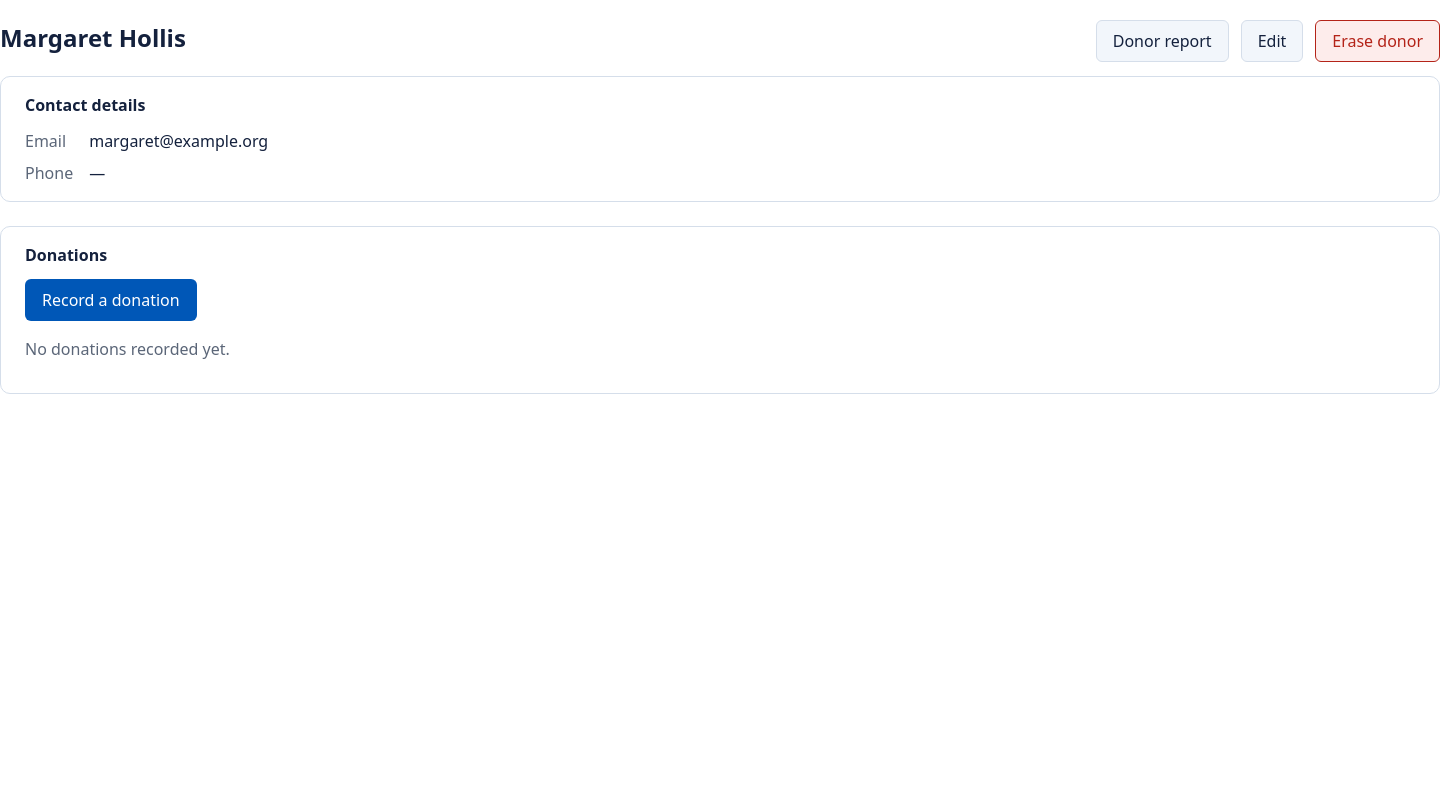
erases the donor after confirmation and returns to the list
Click the button "Erase donor" at (1378, 41), box [1315, 20, 1439, 62]
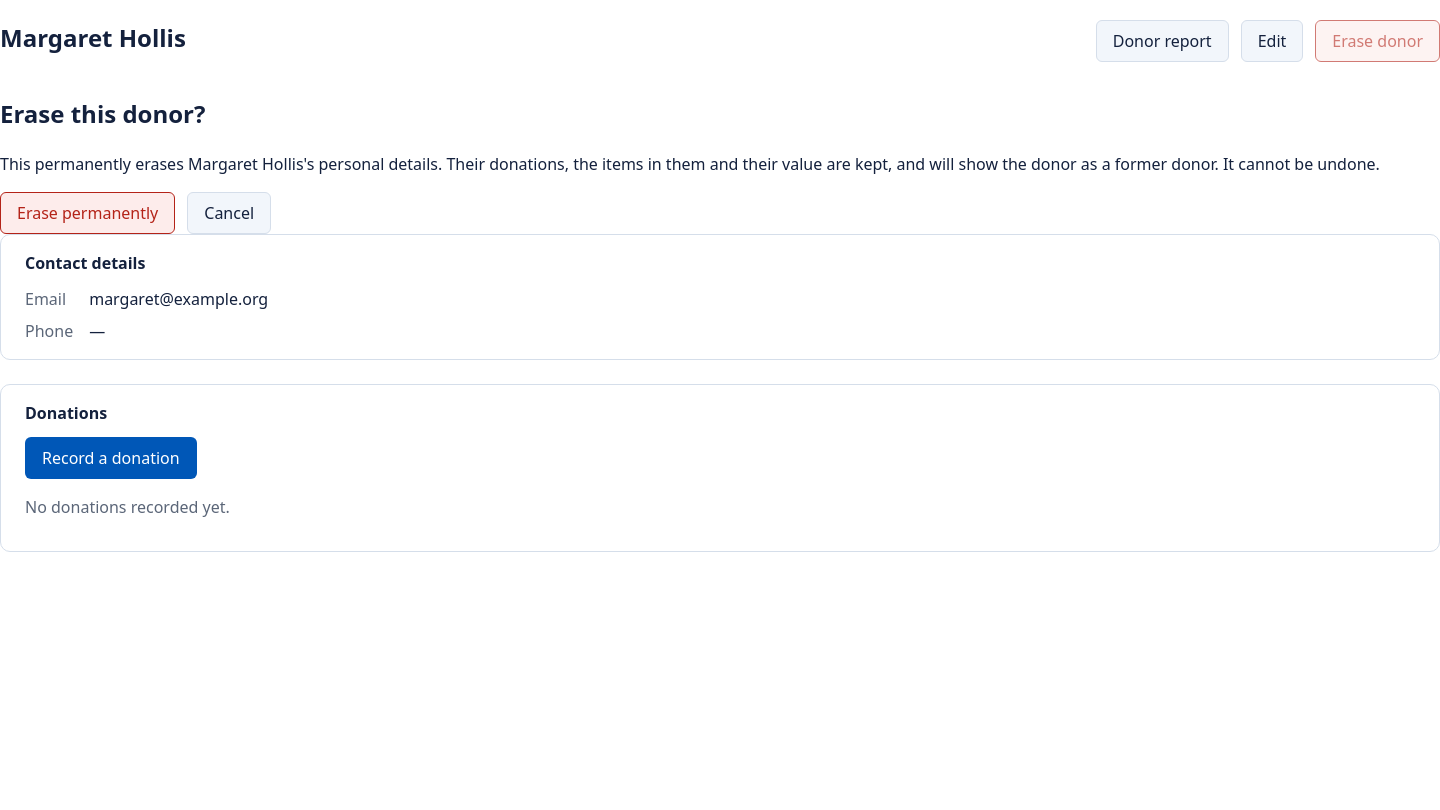
Result: the dialog is shown at [0, 96, 1439, 234]
Click the button "Erase permanently" at (88, 213), box [0, 192, 175, 234]
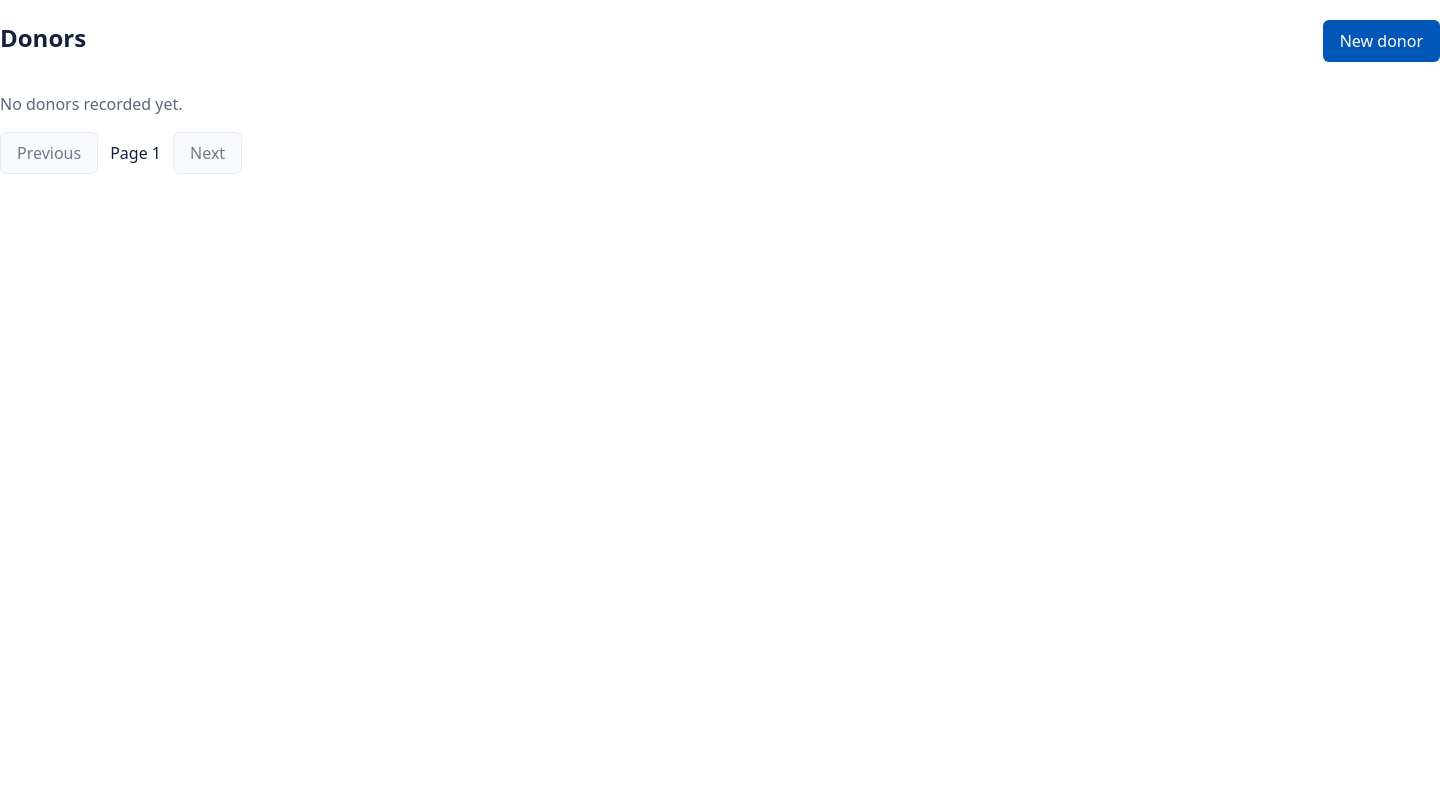
Result: the heading "Donors" is shown at [0, 20, 86, 56]
